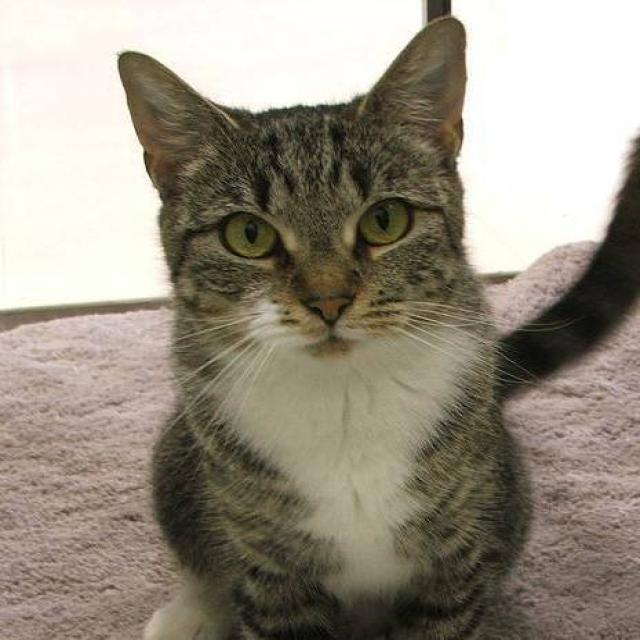Cat: (110, 11, 497, 377)
